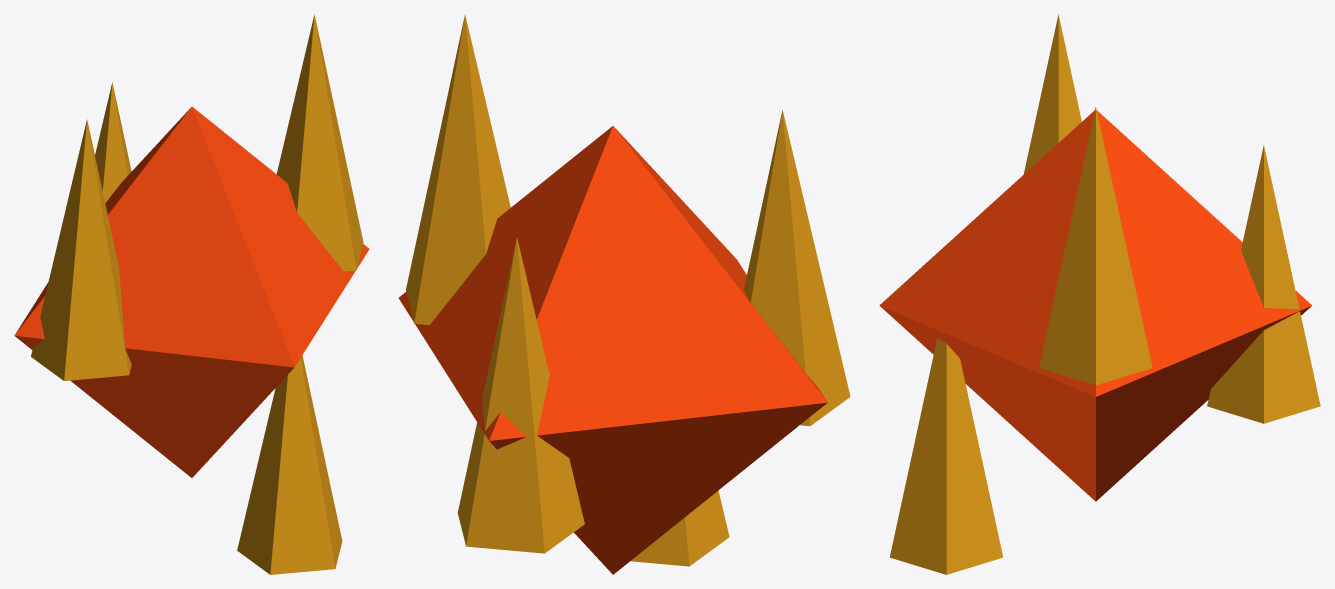
File: fireball.obj
3 renders of one model, left to right at view 1: azimuth 30°, elevation 25°; view 2: azimuth 150°, elevation 25°; view 3: azimuth 270°, elevation 25°, orthographic. The views are drawn at different scales.
Parts seen in each view (by area): view 1: models/vfx/fireball.obj; view 2: models/vfx/fireball.obj; view 3: models/vfx/fireball.obj.
Boxes of the visible parts, x1,y1,x2,y2 form: models/vfx/fireball.obj: (14,14,369,574); models/vfx/fireball.obj: (398,14,850,574); models/vfx/fireball.obj: (879,14,1320,574).
Bounding box in the file's own units: 1.16 × 1.45 × 1.18.
